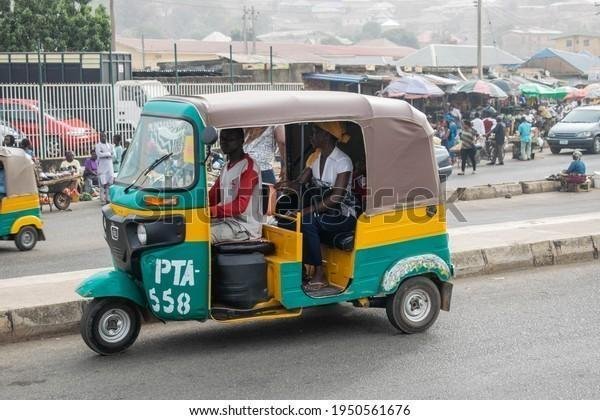keke: (78, 86, 458, 360), (0, 145, 44, 255)
